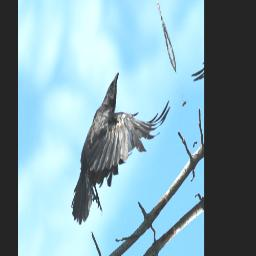Crow: (54, 30, 180, 240)
